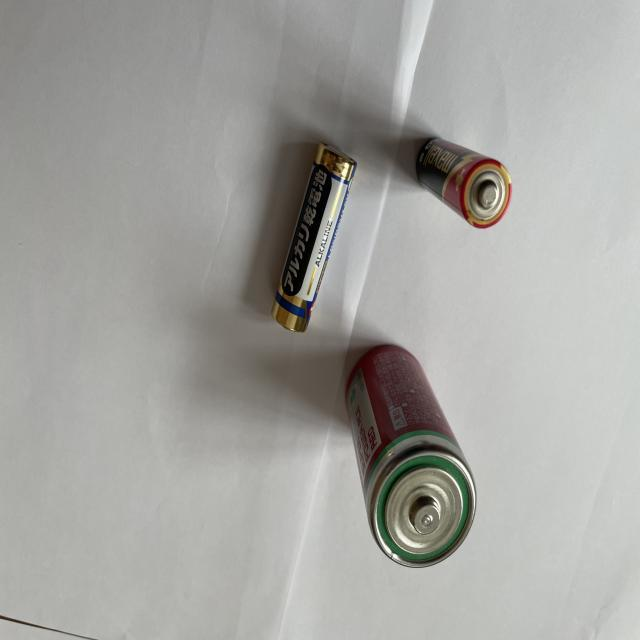hazardous waste: (344, 342, 477, 570), (272, 139, 357, 335), (415, 136, 512, 228)
